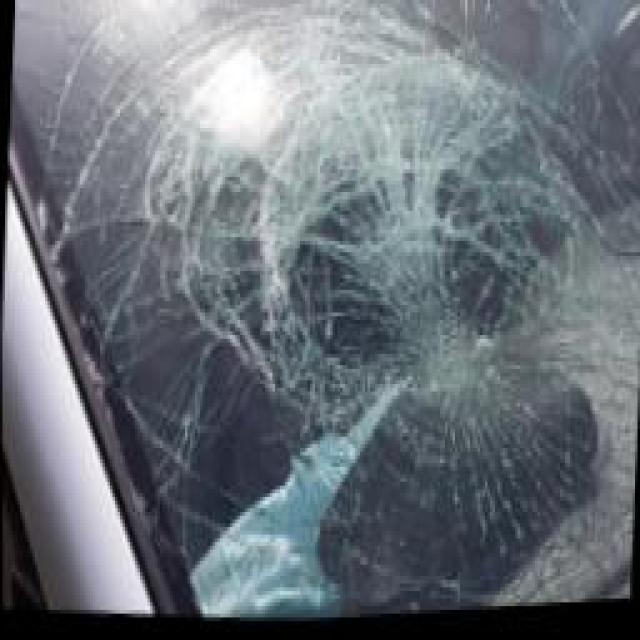Windshield: (13, 0, 640, 622)
